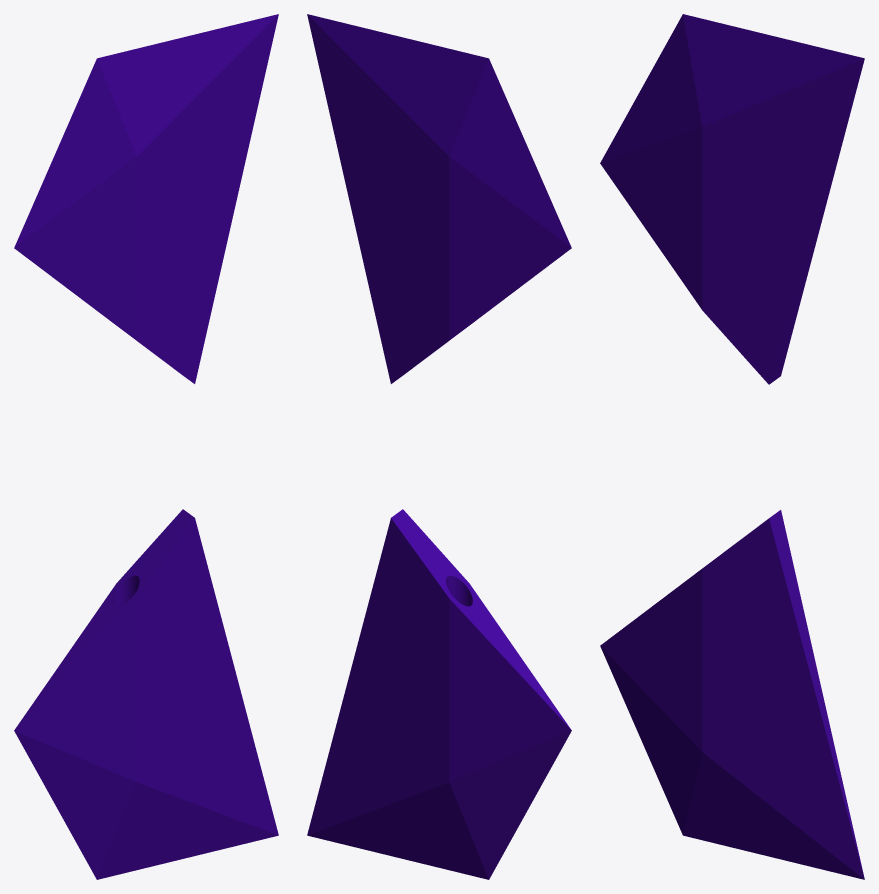
File: fin_pair_v.000.dae
3 renders of one model, left to right at view 1: azimuth 30°, elevation 25°; view 2: azimuth 150°, elevation 25°; view 3: azimuth 330°, elevation 25°, orthographic.
Parts seen in each view (by area): view 1: fin_pair_v.000; view 2: fin_pair_v.000; view 3: fin_pair_v.000.
Boxes of the visible parts, <box> form: fin_pair_v.000: <box>14,14,278,879</box>; fin_pair_v.000: <box>307,14,571,879</box>; fin_pair_v.000: <box>600,14,864,879</box>.
Bounding box in the file's own units: 0.2364 × 0.0315 × 0.7006.
